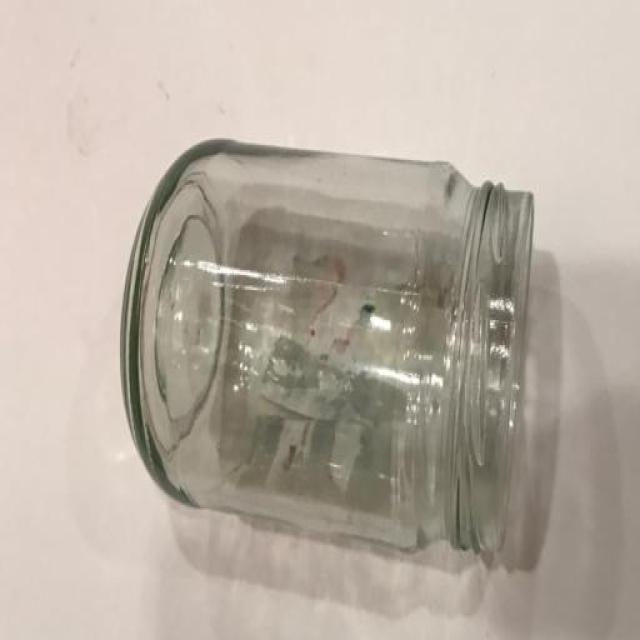Glass: (119, 134, 535, 558)
